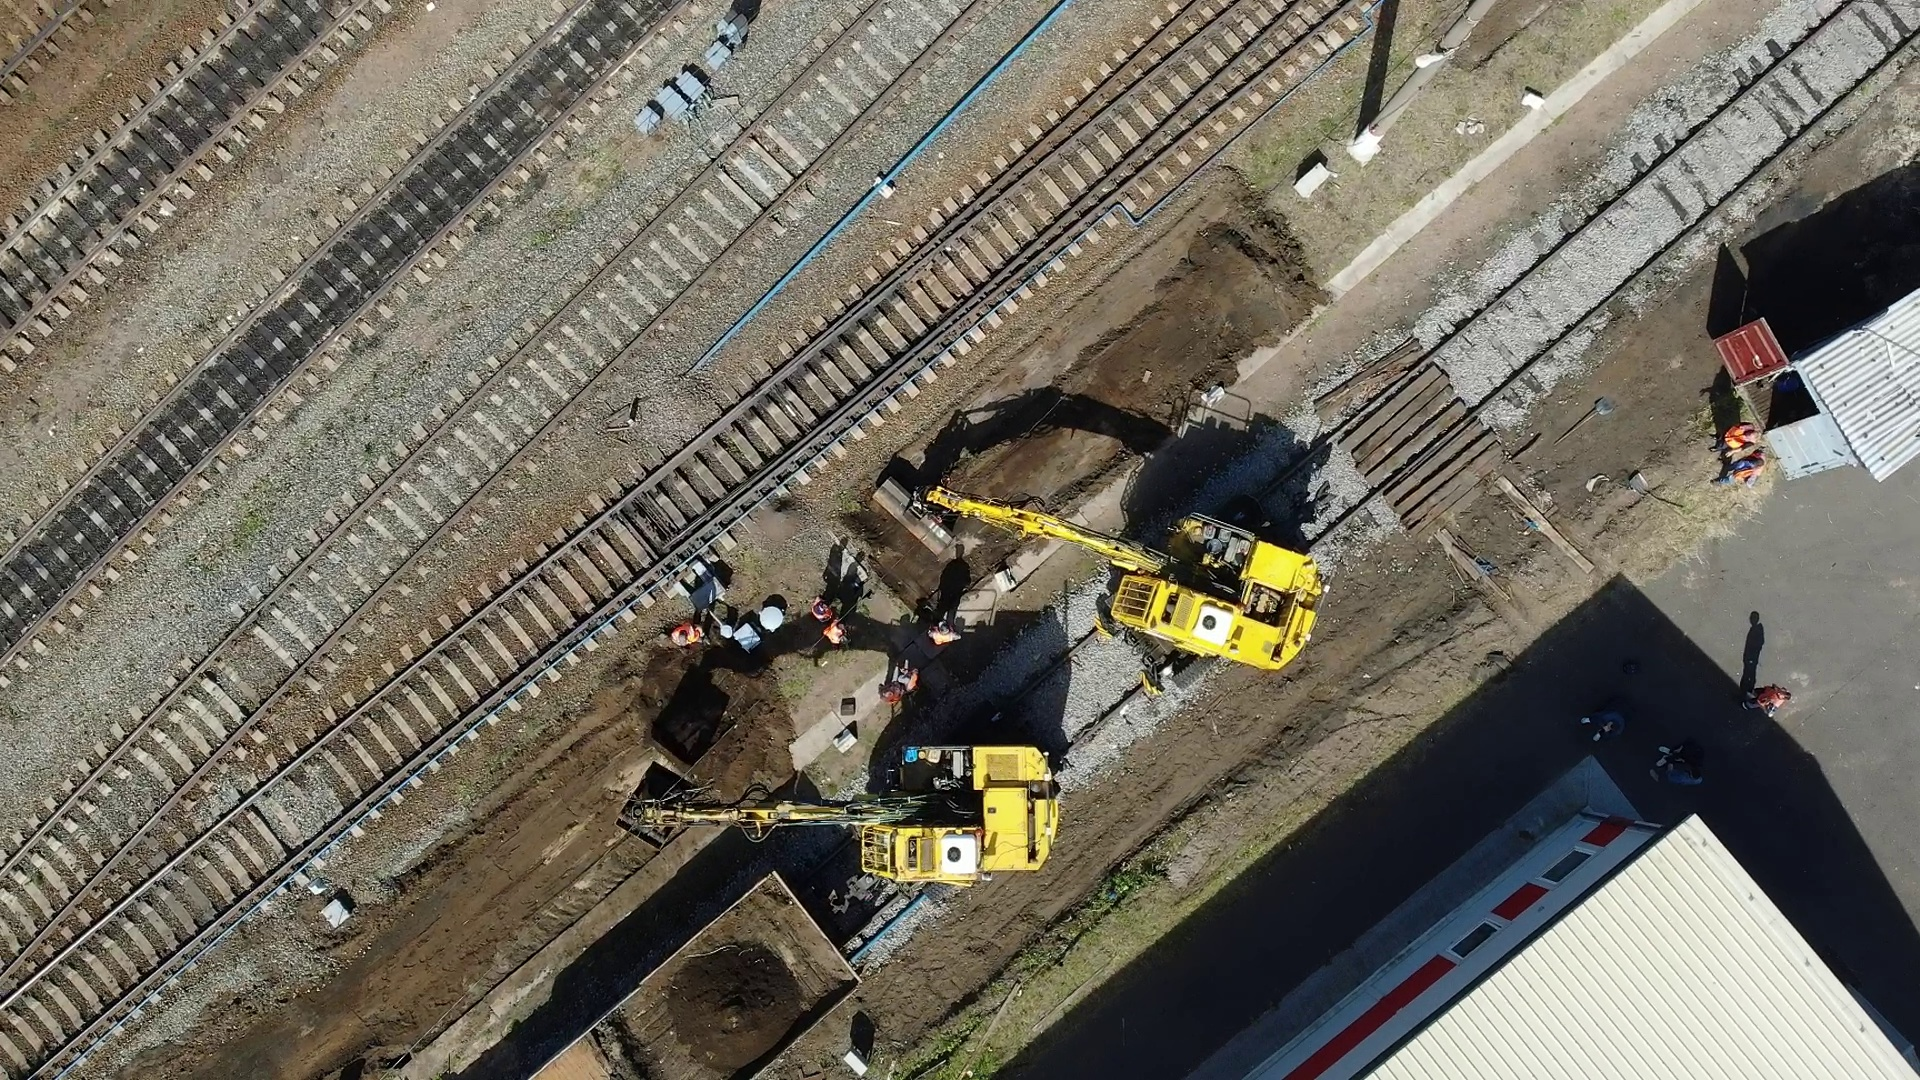kjtv: (759, 736, 1059, 878), (1059, 510, 1320, 670)
